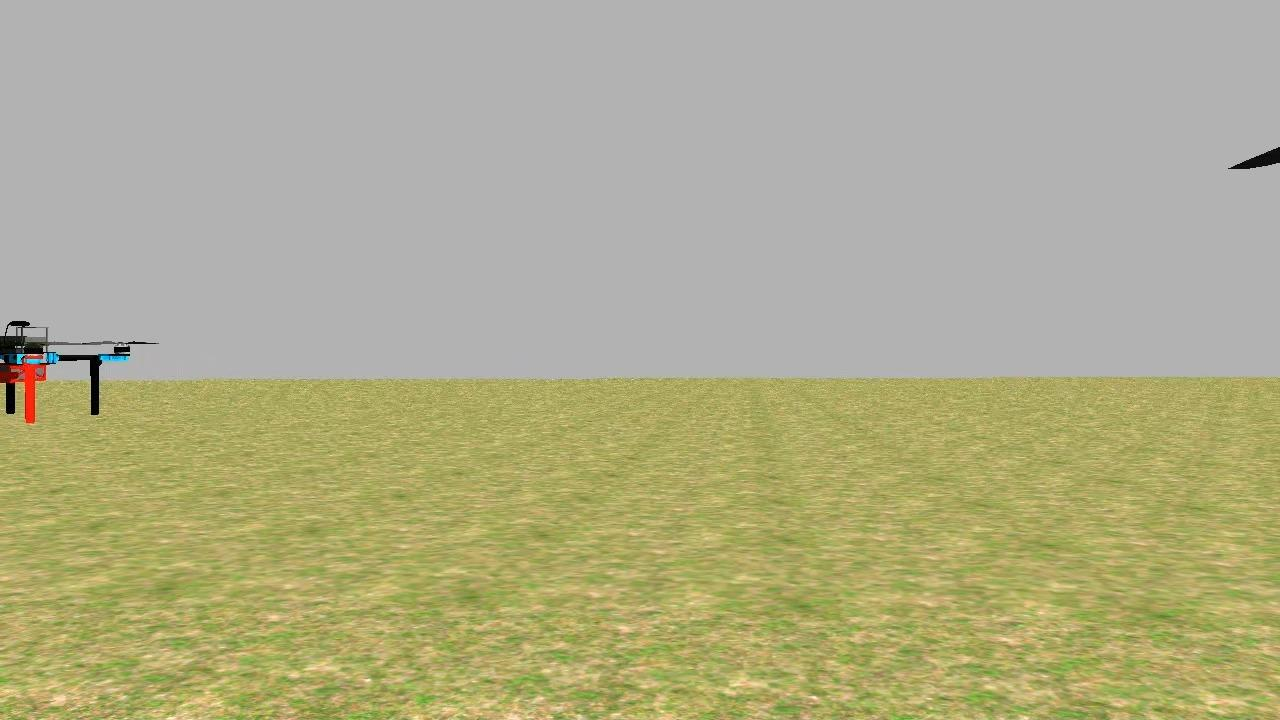UAV: (0, 308, 139, 435)
